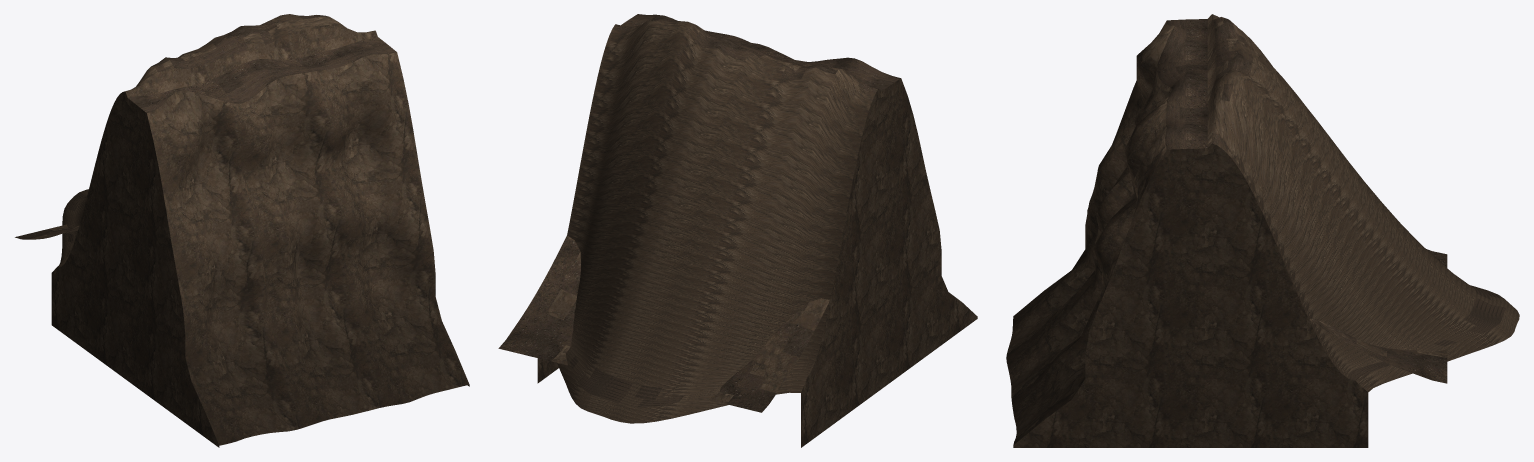
Rendered from seacliff_straight6_h5_v5_dead.glb.
3 views of the same model, side by side, from view 1: azimuth 30°, elevation 25°; view 2: azimuth 150°, elevation 25°; view 3: azimuth 270°, elevation 25° (orthographic). The views are drawn at different scales.
Visible parts, largest first — view 1: seacliff_straight6_h5; view 2: seacliff_straight6_h5; view 3: seacliff_straight6_h5.
Part boxes in pixels (left/top/right/bottom): seacliff_straight6_h5: left=15, top=14, right=469, bottom=447; seacliff_straight6_h5: left=498, top=14, right=977, bottom=447; seacliff_straight6_h5: left=1006, top=14, right=1519, bottom=447.
Bounding box in the file's own units: 6 × 7.24 × 10.06.
2 materials, 2 textured.
